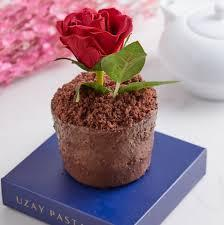Rose: (49, 7, 138, 67)
